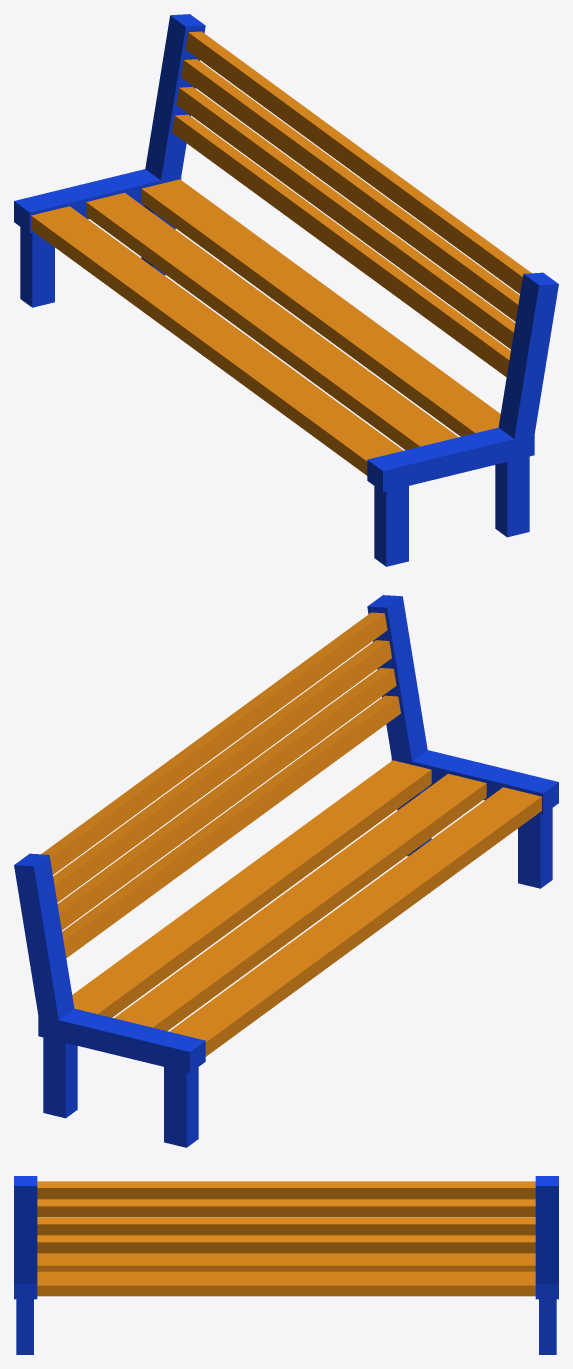
Rendered from ghe da via he.FBX.
The picture shows the model from 3 angles, top to bottom: view 1: azimuth 30°, elevation 25°; view 2: azimuth 150°, elevation 25°; view 3: azimuth 270°, elevation 25°; orthographic projection. The views are drawn at different scales.
Parts seen in each view (by area): view 1: Object1372; view 2: Object1372; view 3: Object1372.
Boxes of the visible parts, box(x1,y1,x2,y2) form: Object1372: box(14, 14, 558, 566); Object1372: box(14, 595, 558, 1147); Object1372: box(14, 1176, 558, 1354).
Size of the model in its own units: 1.6 by 2.13 by 5.81.
